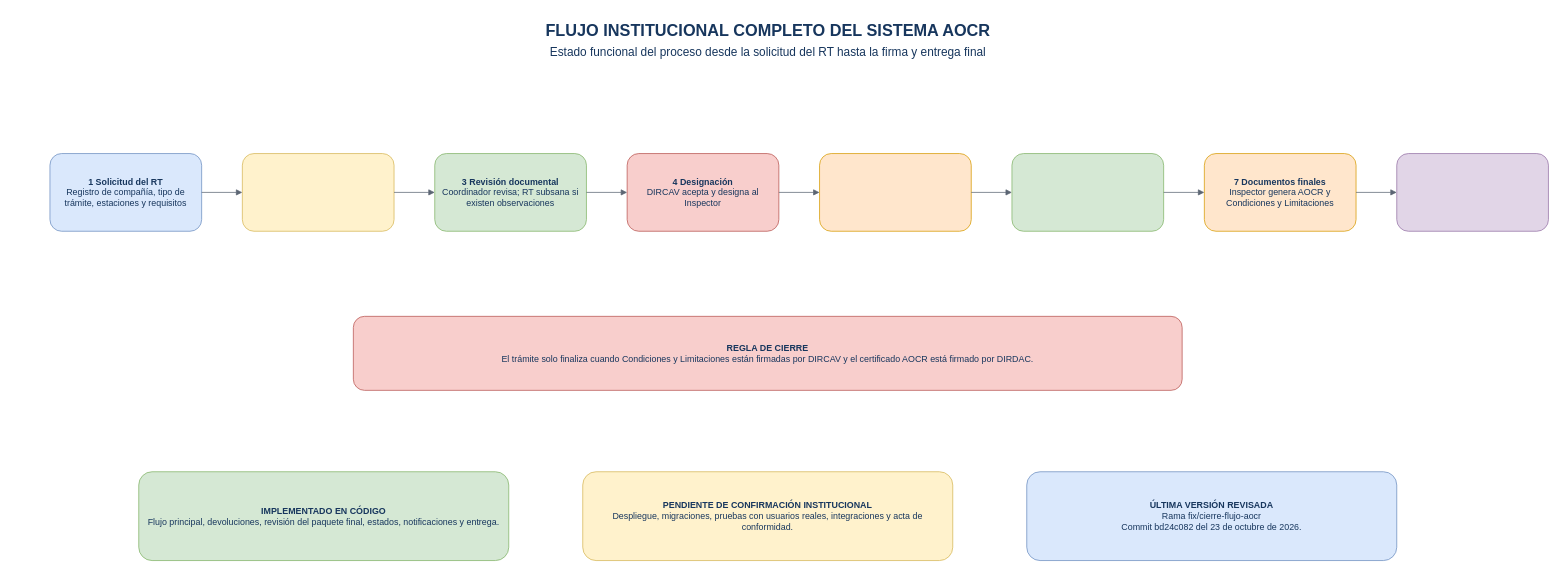
This 1561x574 diagram has some shape labels left out. Here are the shapes that lost their labels. From the top down, the centre of each, then its label:
the point at 318,192: 2 Recaudación Orden FR3, pago, comprobante y validación financiera
the point at 895,192: 5 Inspección Fechas por estación, LV/EAE, no conformidades e informe
the point at 1087,192: 6 Revisión técnica Coordinador, DIRCAV y DIRDAC revisan el expediente
the point at 1472,192: 8 Firmas y cierre DIRCAV firma C&L; DIRDAC firma AOCR; entrega a RT e Inspector
